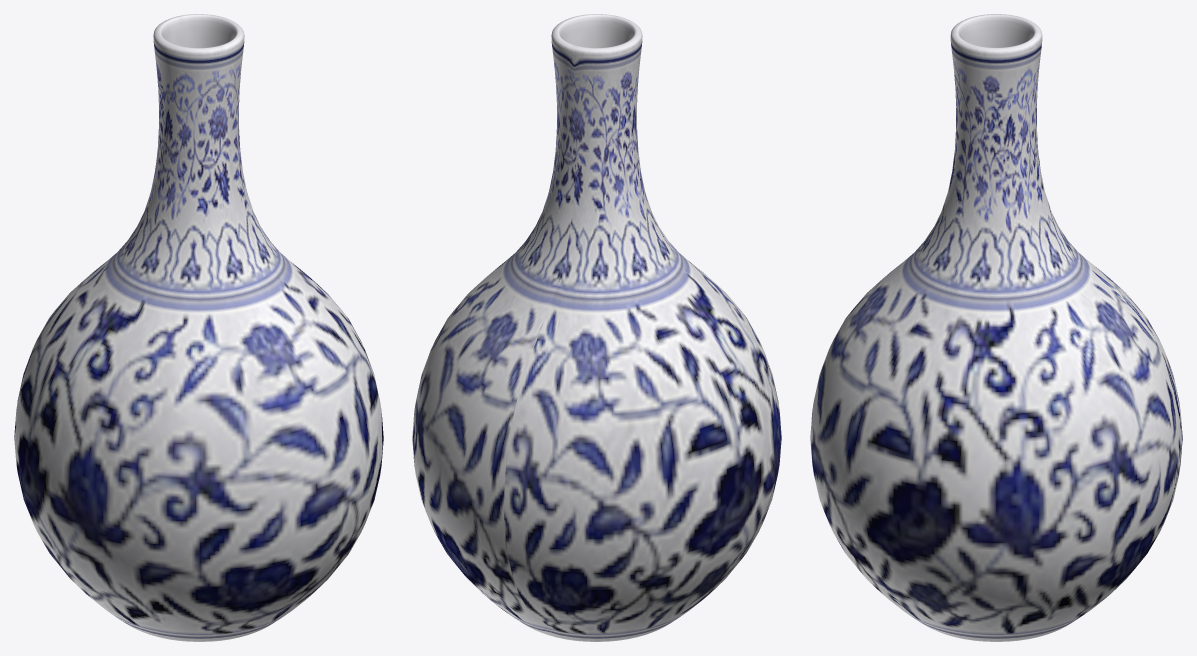
File: QingHuaCiPing.FBX
The picture shows the model from 3 angles, left to right: view 1: azimuth 30°, elevation 25°; view 2: azimuth 150°, elevation 25°; view 3: azimuth 270°, elevation 25°; orthographic projection.
Parts seen in each view (by area): view 1: 青花缠枝花天球瓶; view 2: 青花缠枝花天球瓶; view 3: 青花缠枝花天球瓶.
Part boxes in pixels (<box>): 青花缠枝花天球瓶: <box>14,14,383,641</box>; 青花缠枝花天球瓶: <box>412,14,781,641</box>; 青花缠枝花天球瓶: <box>810,14,1182,641</box>.
Size of the model in its own units: 6.91 by 11.95 by 6.98.
